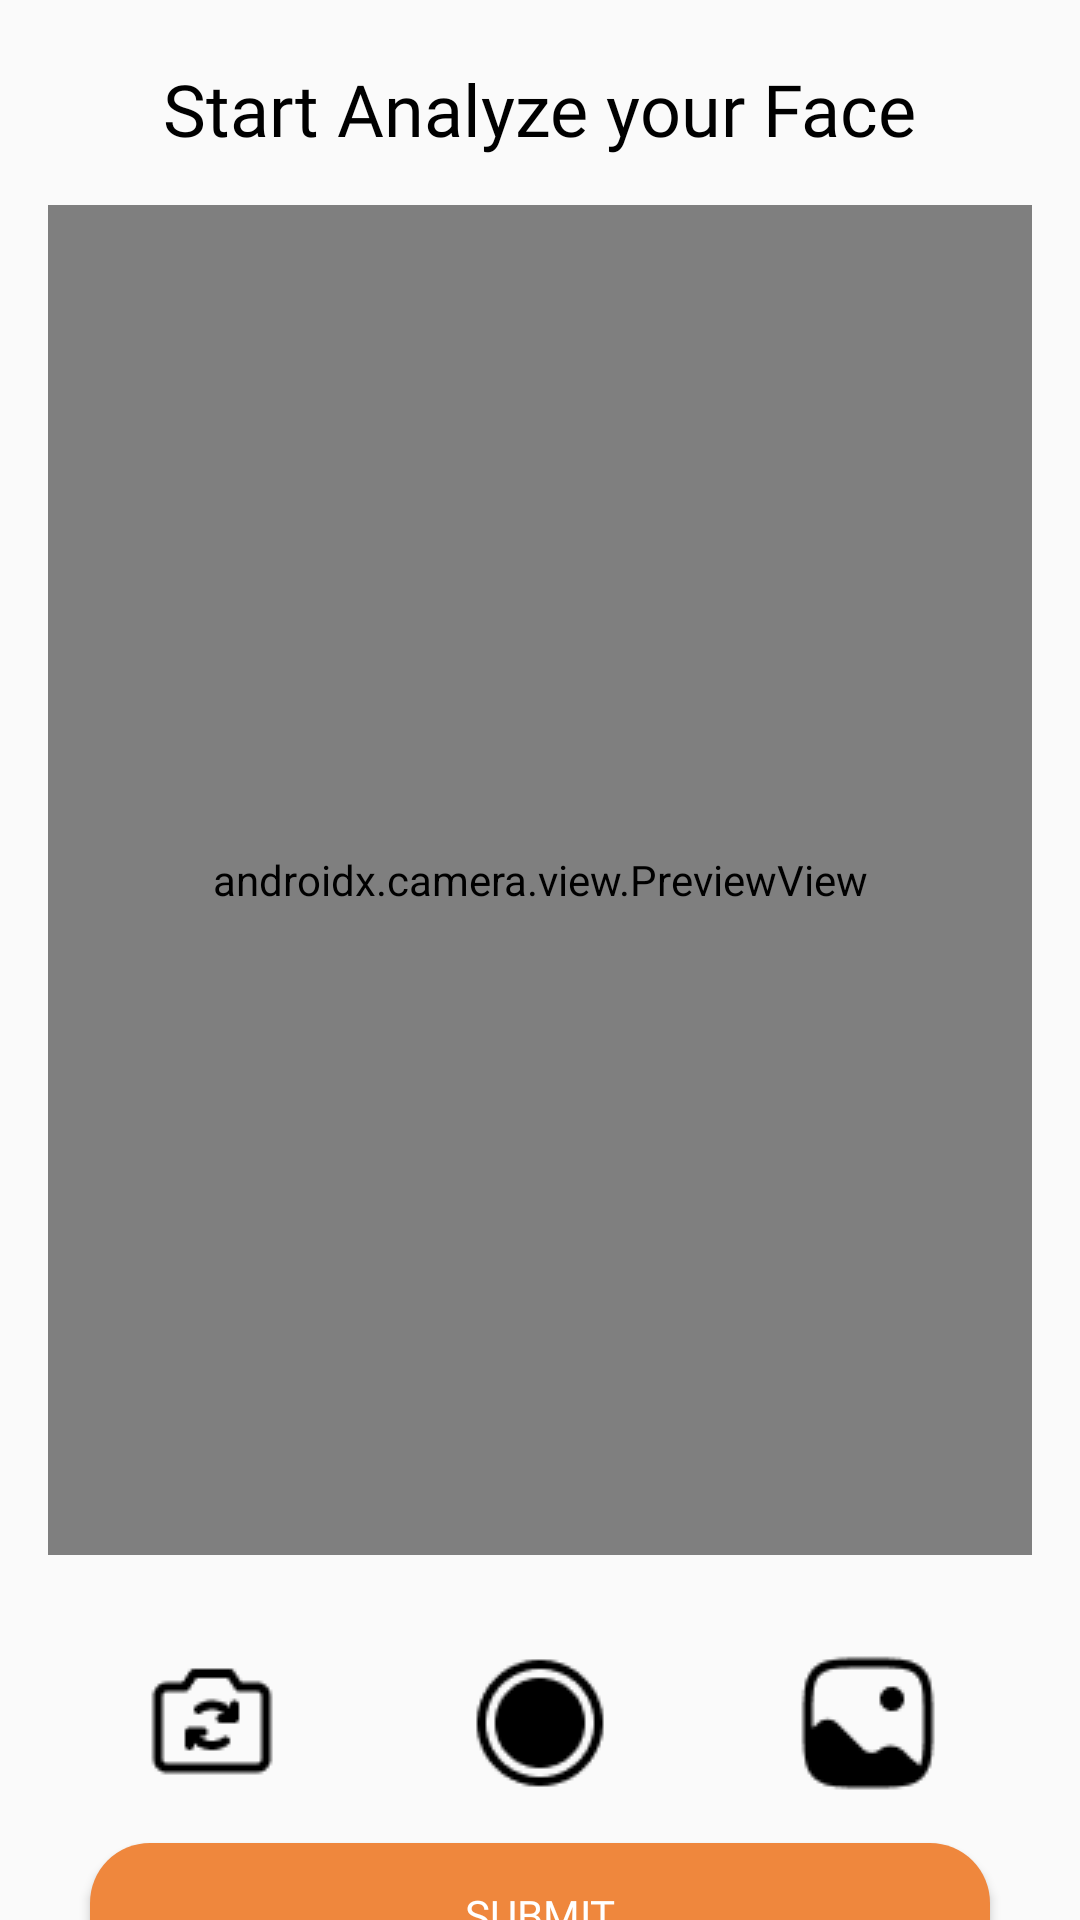

Icon bounding boxes for this 1080 × 1920 phone screenshot, format (x1, y1, x2, y2):
capture: (476, 1659, 604, 1787)
gallery: (801, 1656, 935, 1790)
switch: (151, 1668, 273, 1775)
